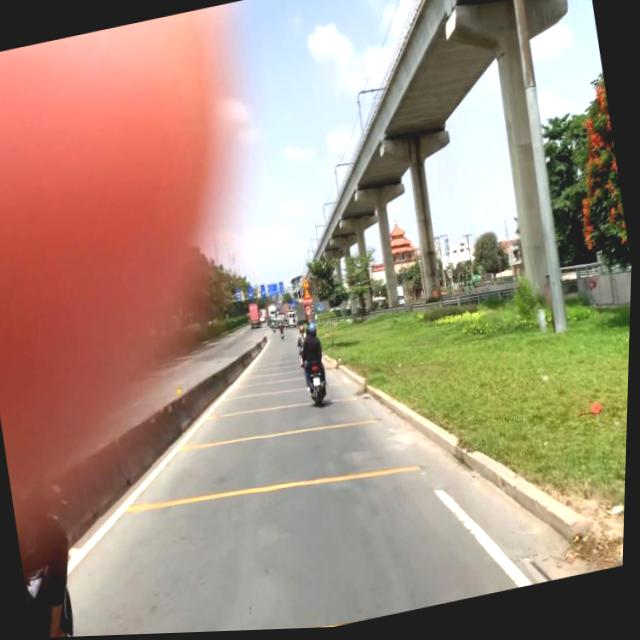Cam re phai: (306, 307, 315, 319)
Di cham: (304, 290, 313, 300)
Giao nhau voi duong khong uu tien ben phai: (303, 278, 311, 290)
